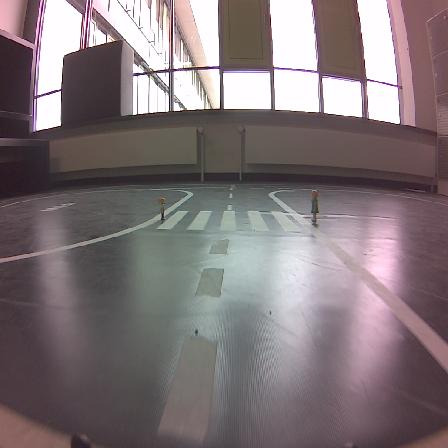CHILD: (158, 197, 164, 220)
PERSON: (311, 190, 318, 222)
